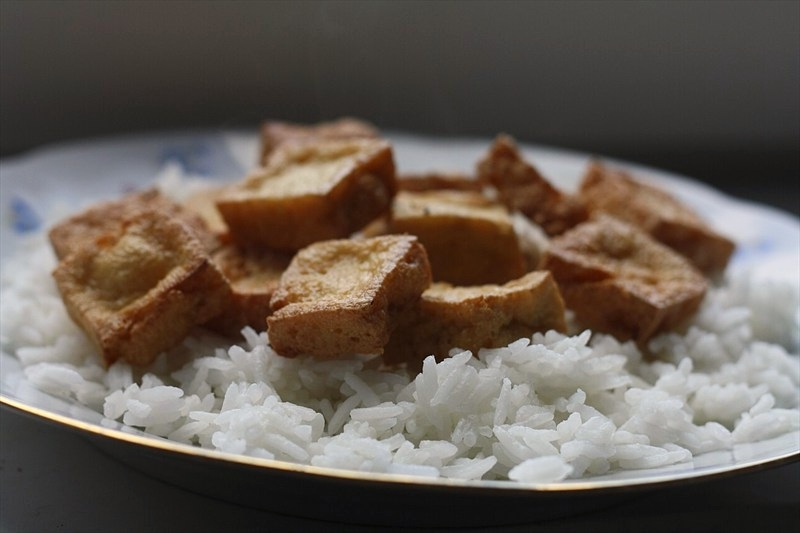Tahu Goreng: (32, 137, 784, 494)
